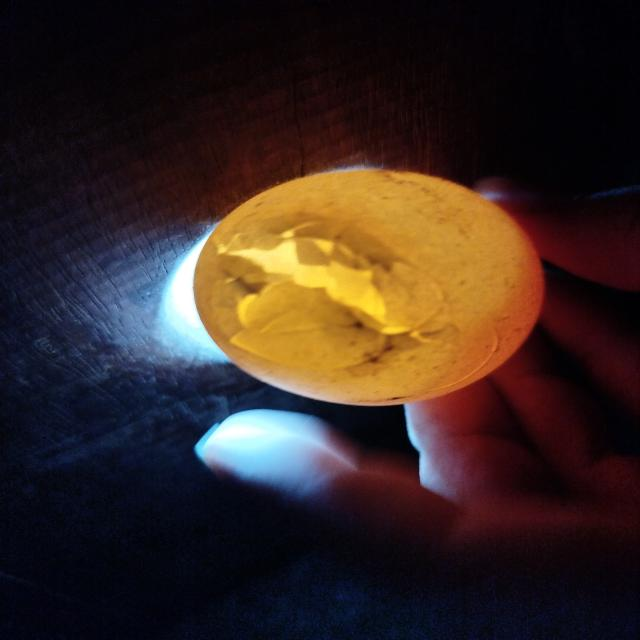Rachadura: (210, 213, 460, 374)
